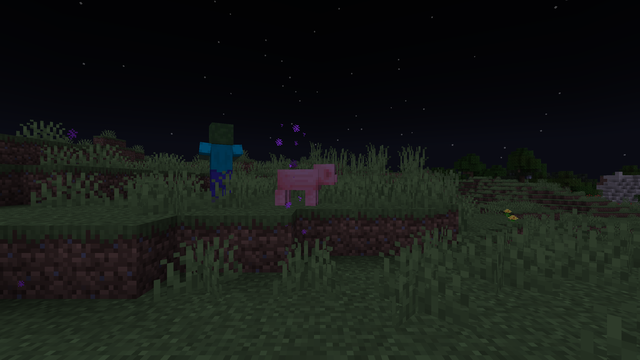cochons: (279, 168, 317, 206)
zombies: (203, 124, 235, 204)
